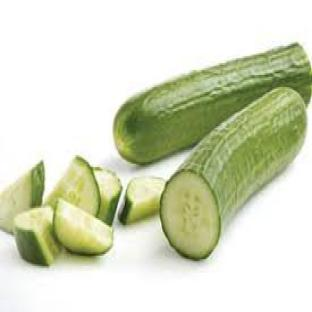Cucumber: (160, 87, 306, 259), (114, 45, 311, 163), (54, 200, 113, 255), (46, 157, 100, 216), (0, 162, 44, 233), (14, 207, 60, 265), (120, 178, 165, 225), (94, 168, 122, 225)
